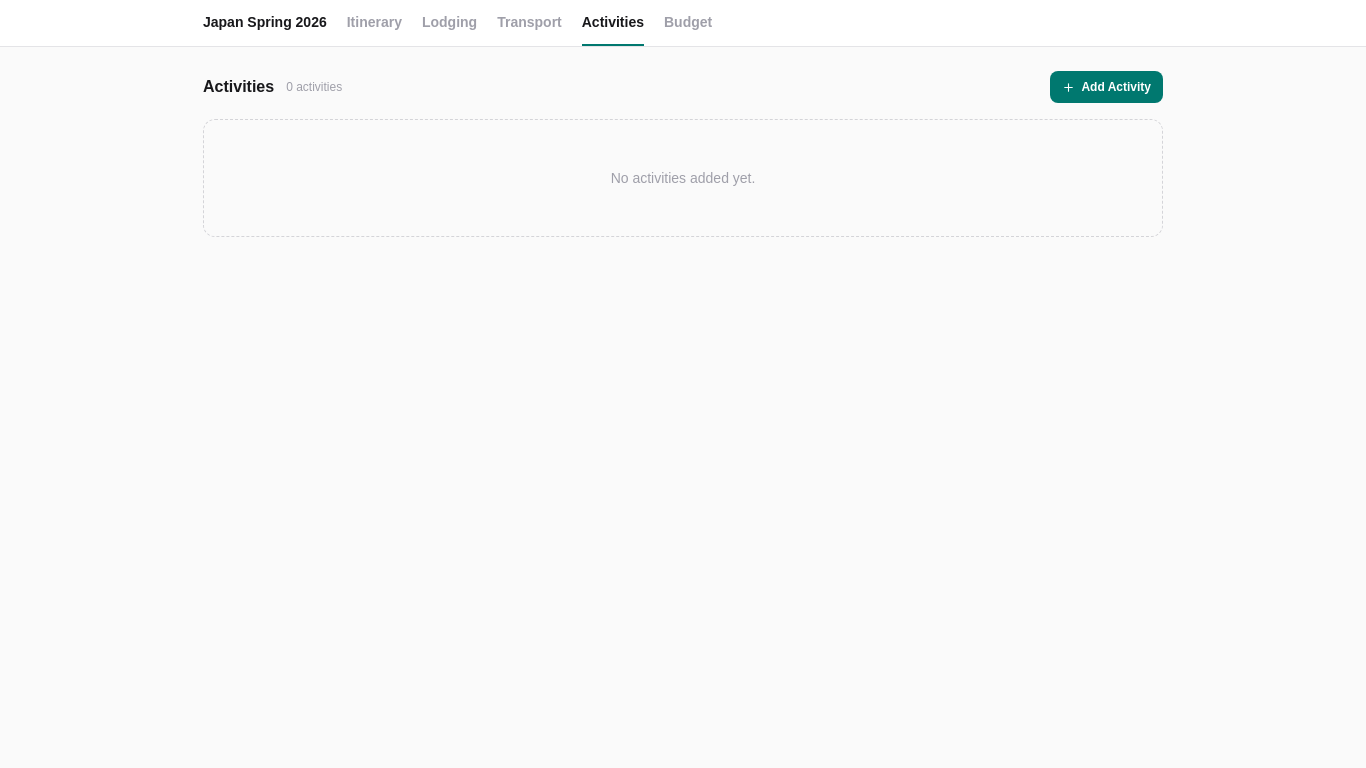
Scenario: Activities page — Add form validation › shows a title-required error when submitting an empty form
Click the button "Add Activity": (1107, 87) top-left (1050, 71), bottom-right (1163, 103)
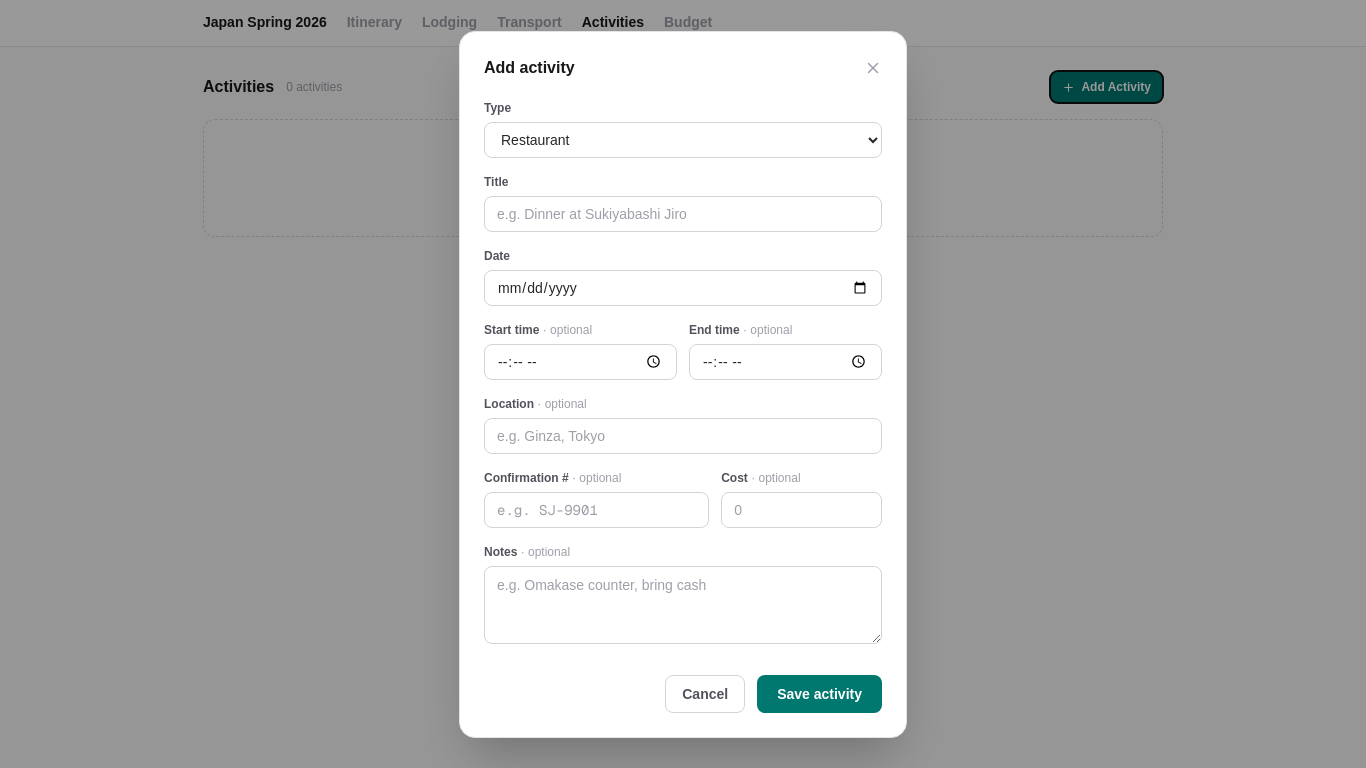
Click the button "Save activity": (820, 694) top-left (757, 674), bottom-right (882, 712)
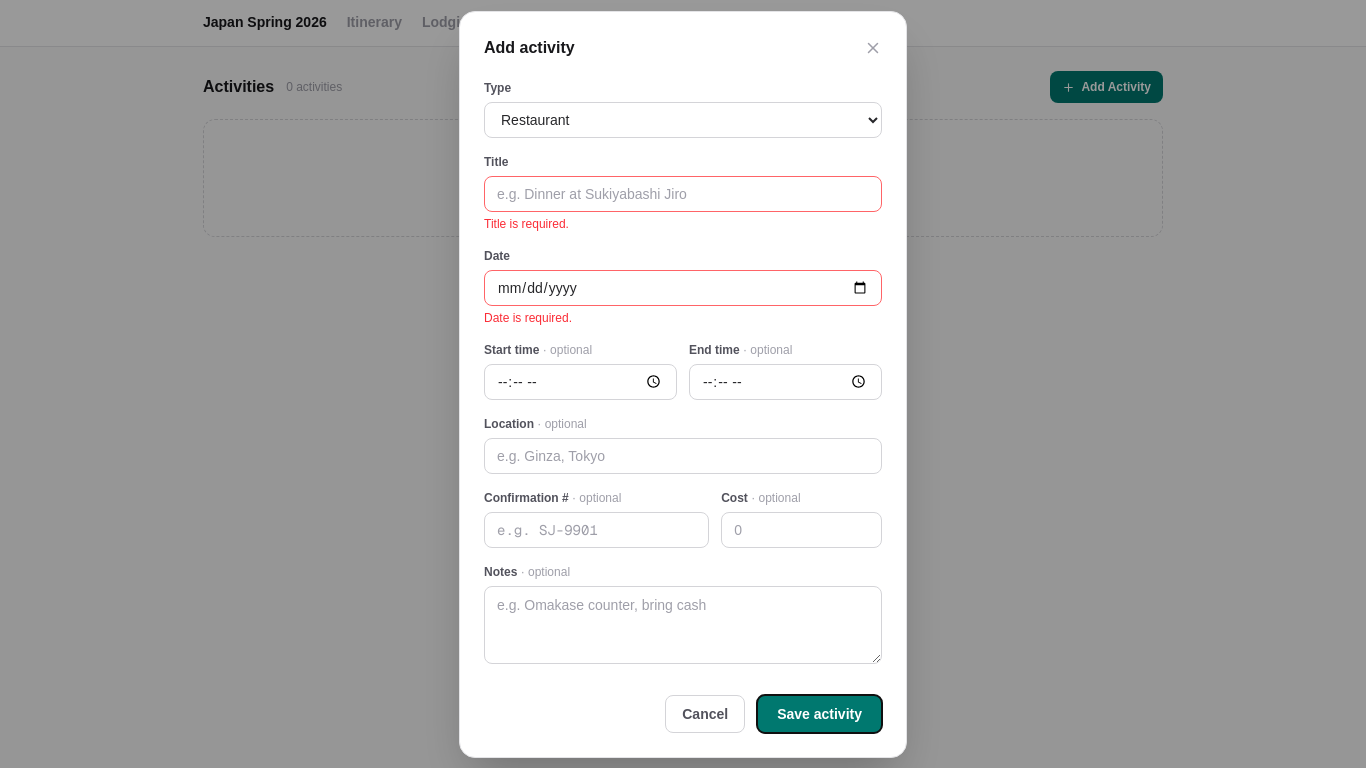
Expected: the text "Title is required." is shown, top-left (484, 216), bottom-right (569, 230)
